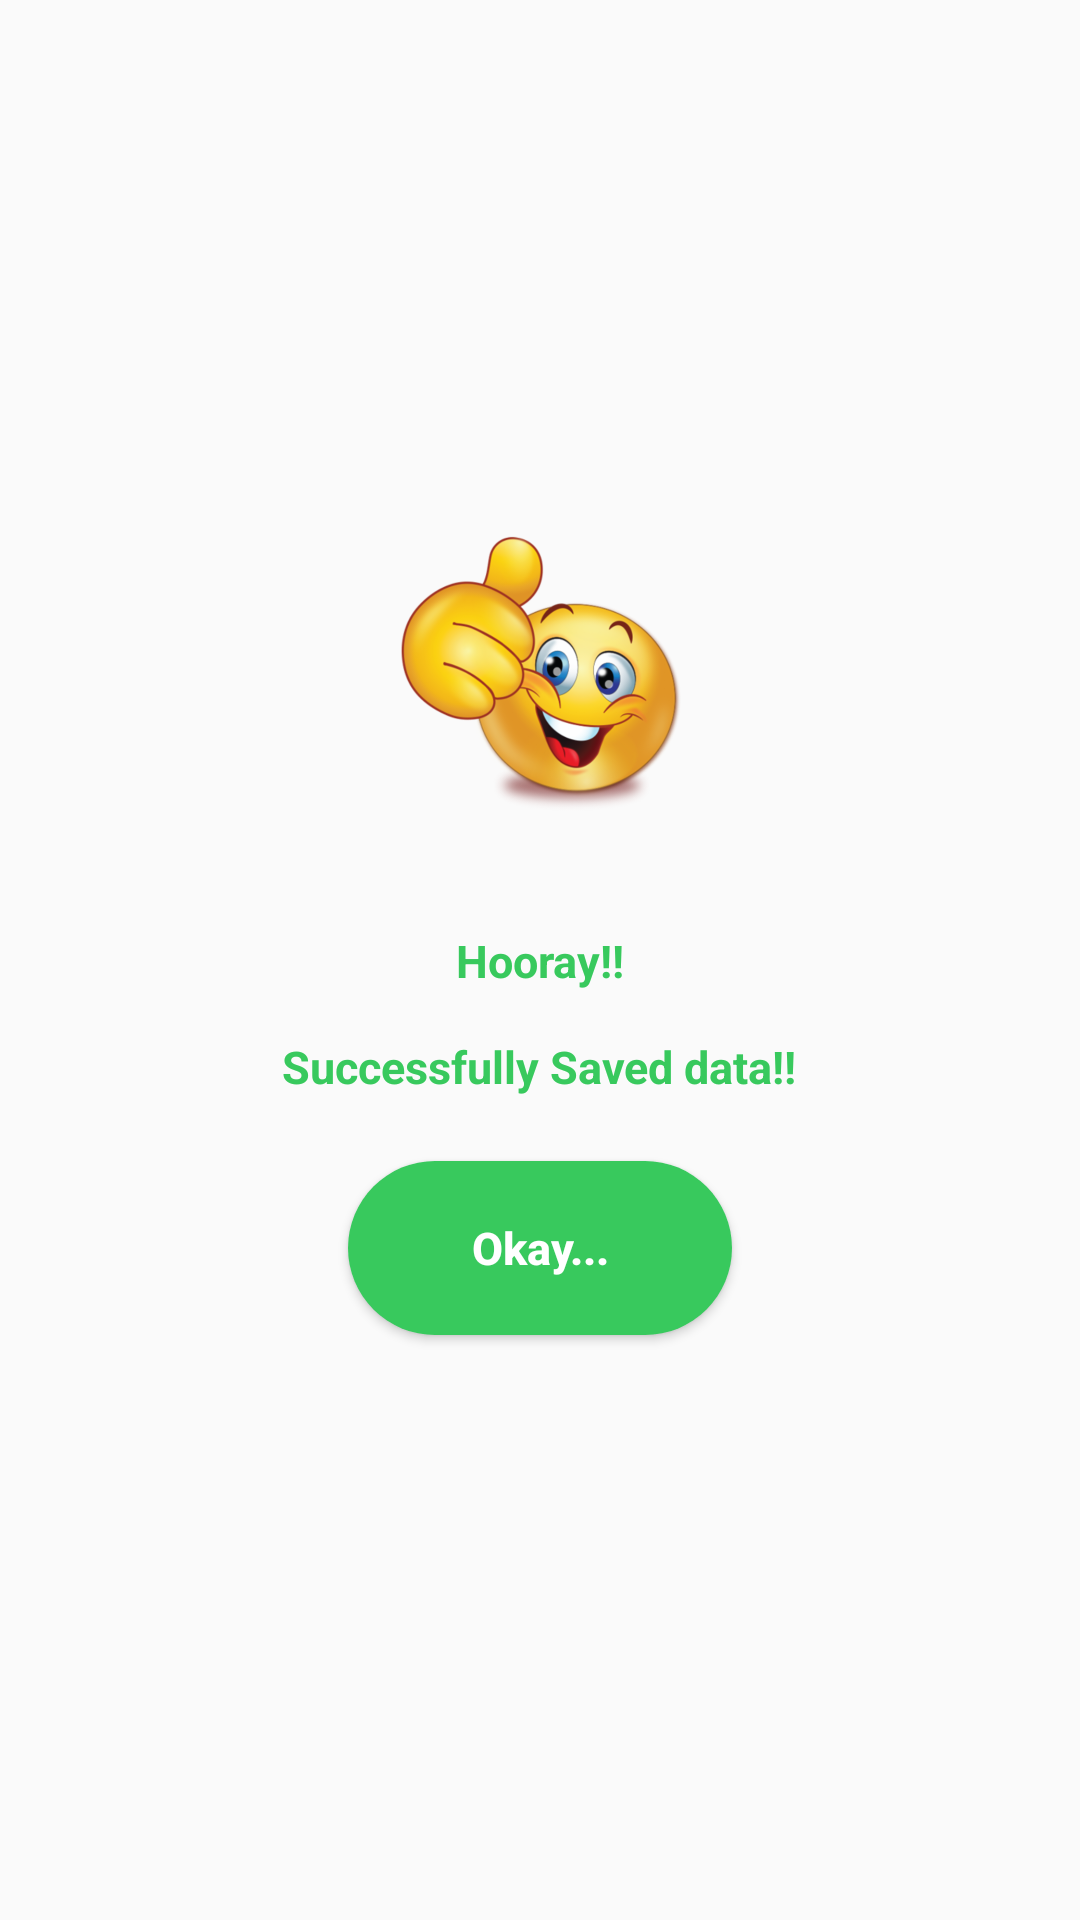

Where icons sit on this 1080px×1920px app screen, as (x1, y1, x2, y2):
happy emoji: (401, 537, 679, 803)
